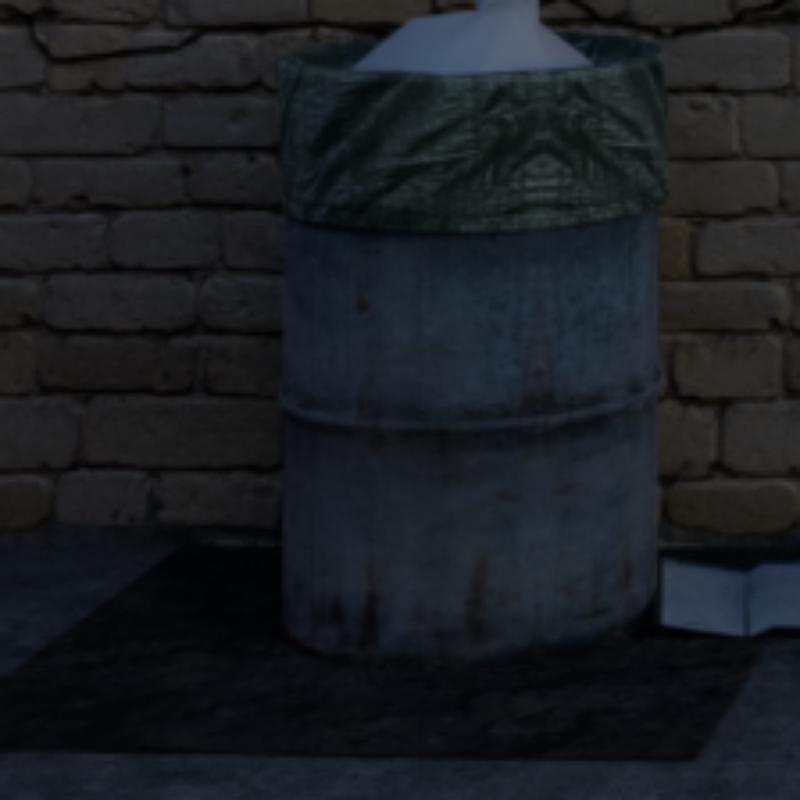crack: (0, 4, 343, 61), (607, 0, 786, 36), (577, 2, 600, 18), (432, 4, 471, 11), (356, 29, 393, 36)
